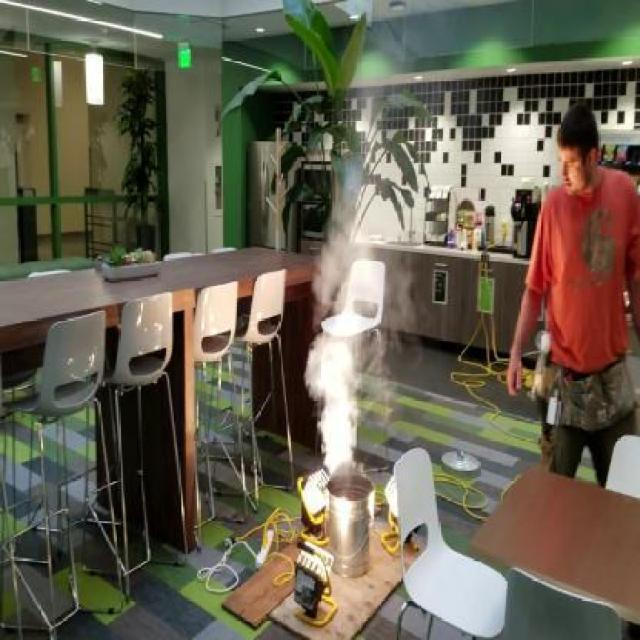fire: (302, 232, 378, 468)
